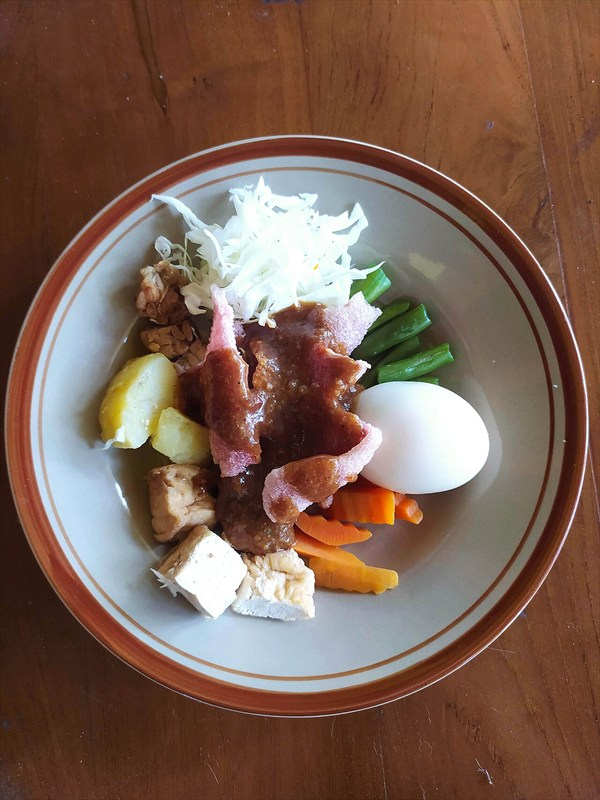Gado-Gado: (32, 152, 486, 681)
